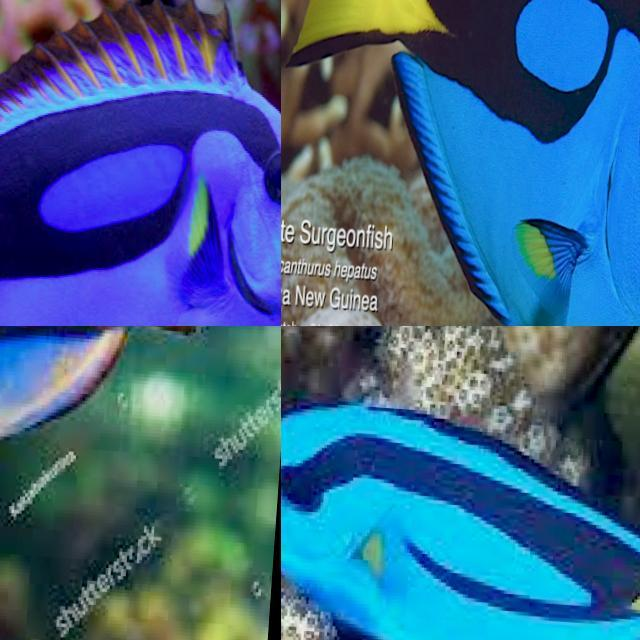BlueTang: (0, 0, 281, 326), (281, 408, 640, 640), (434, 0, 640, 324)
